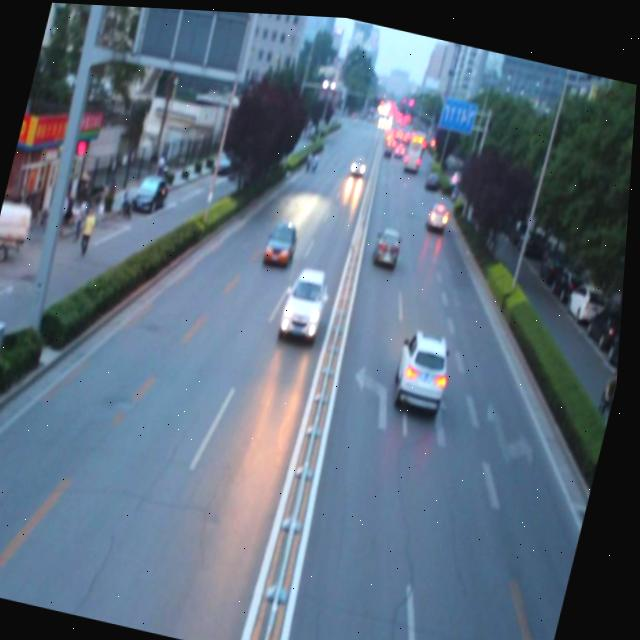car: (392, 319, 462, 411), (280, 258, 336, 337), (263, 214, 304, 268), (373, 218, 407, 265)
